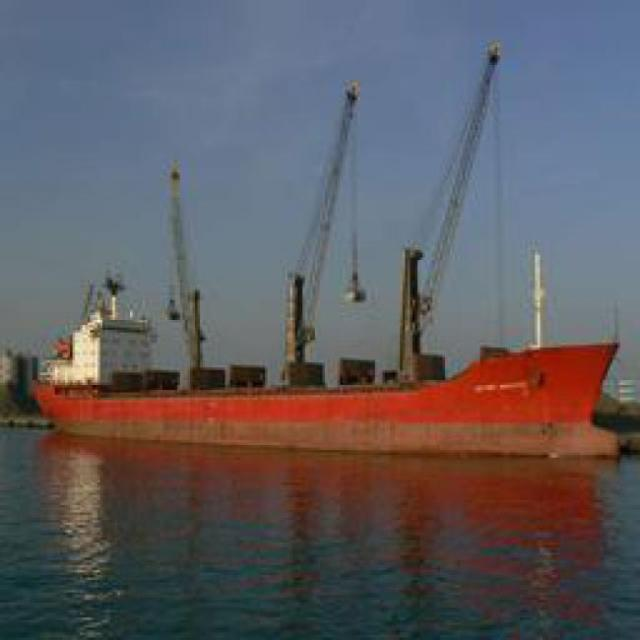boat: (28, 300, 612, 465)
